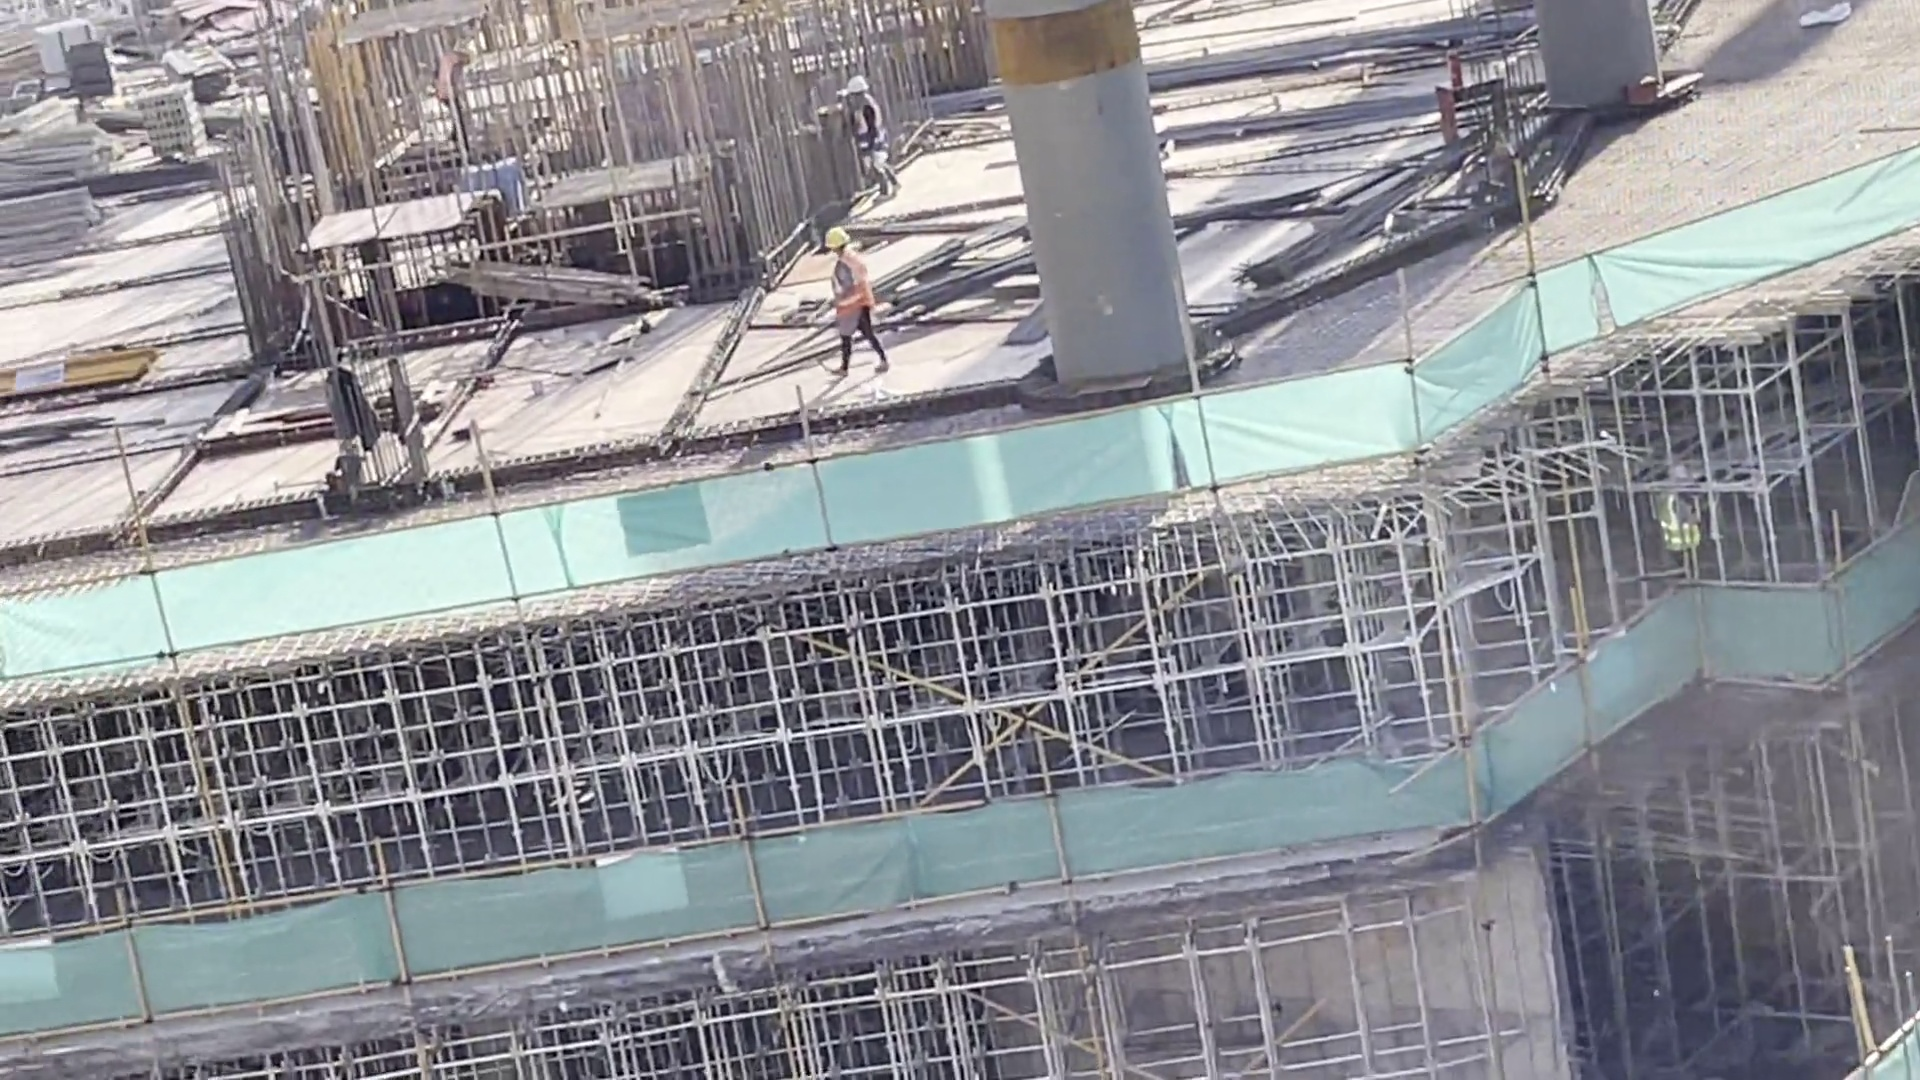helmet: (820, 227, 851, 254), (846, 79, 865, 96)
person: (810, 223, 904, 375), (1644, 467, 1722, 580), (846, 78, 904, 202)
vest: (1656, 503, 1696, 556), (825, 257, 869, 305), (853, 102, 887, 153)
wood: (1, 194, 108, 253), (1, 125, 106, 176)
